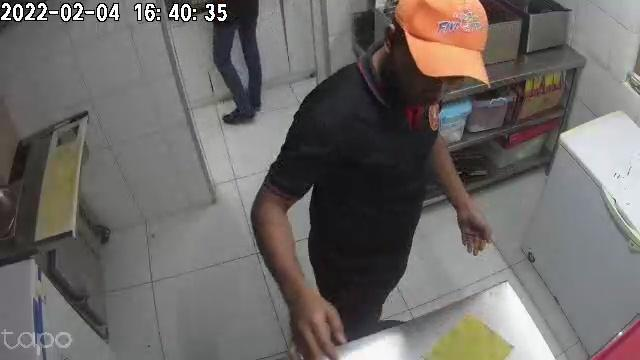no_gloves: (455, 196, 492, 255)
